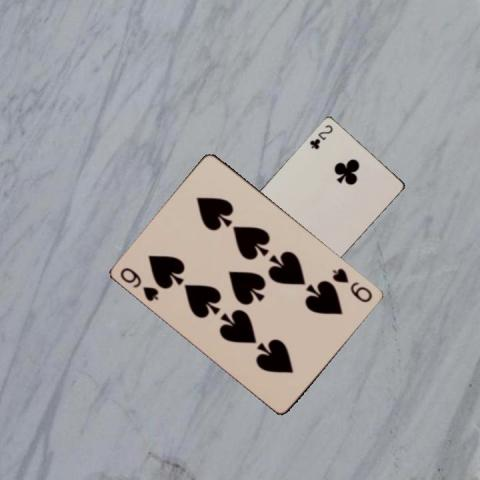2c: (307, 121, 334, 151)
9s: (329, 265, 374, 304), (117, 264, 161, 303)
